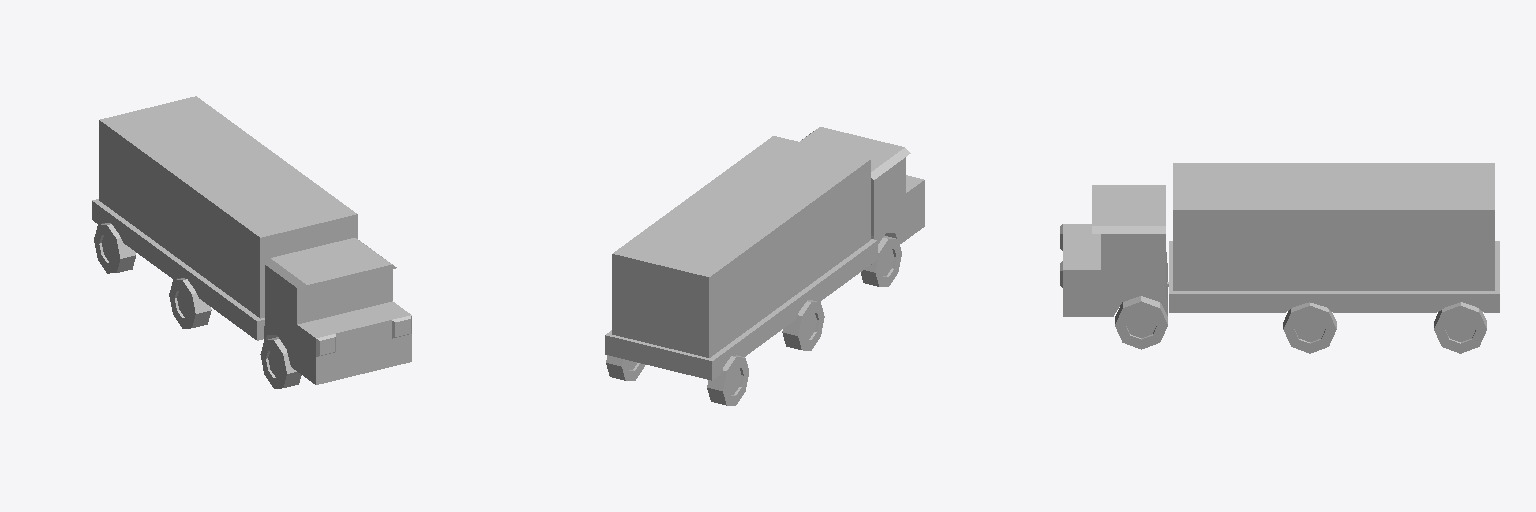
The model's file is truck2.obj.
3 views of the same model, side by side, from view 1: azimuth 30°, elevation 25°; view 2: azimuth 150°, elevation 25°; view 3: azimuth 270°, elevation 25° (orthographic).
Visible parts, largest first — view 1: truck; view 2: truck; view 3: truck.
Boxes of the visible parts, box(x1,y1,x2,y2) form: truck: box(92, 96, 411, 388); truck: box(605, 127, 924, 405); truck: box(1060, 163, 1499, 353).
Bounding box in the file's own units: 14.43 × 16.35 × 46.96.